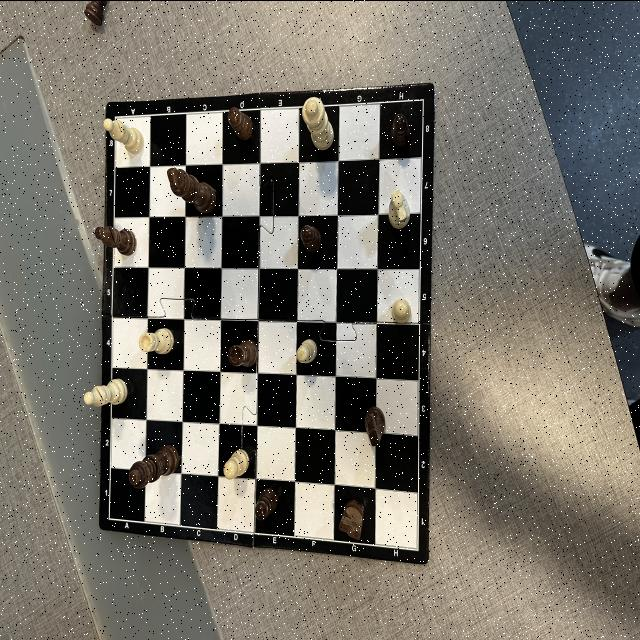Black-Bishop: (95, 223, 136, 256)
Black-King: (166, 166, 216, 213)
Black-Knight: (338, 498, 364, 540), (364, 404, 386, 446), (388, 188, 411, 228)
Black-Pawn: (227, 106, 253, 140), (254, 486, 278, 520), (390, 112, 410, 146), (300, 224, 322, 252)
Black-Queen: (128, 442, 180, 488)
Black-Rook: (228, 338, 258, 366)
White-Bishop: (103, 116, 144, 154), (82, 376, 128, 406)
White-Pawn: (223, 448, 250, 478), (296, 337, 318, 363), (391, 298, 411, 323)
White-Queen: (302, 96, 334, 150)
White-Rook: (138, 326, 174, 354)
